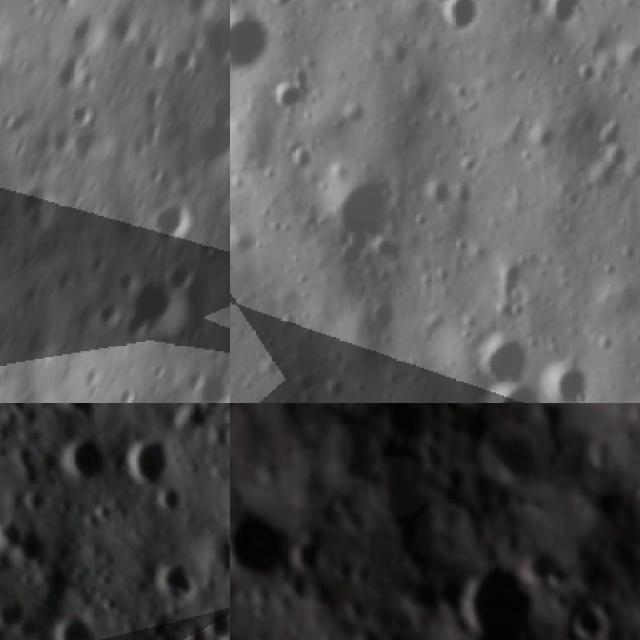crater: (449, 555, 538, 640), (328, 158, 402, 239), (319, 414, 387, 496), (142, 546, 210, 620), (230, 497, 287, 584), (125, 272, 189, 349), (50, 426, 118, 493), (116, 433, 181, 499), (468, 330, 533, 384), (230, 9, 276, 80), (148, 190, 202, 250), (37, 602, 114, 640), (165, 403, 226, 450), (290, 523, 336, 584), (488, 433, 537, 486), (565, 593, 614, 640), (547, 359, 598, 403), (154, 478, 200, 524), (45, 403, 116, 432), (522, 535, 562, 586), (274, 65, 311, 117), (190, 360, 230, 403), (436, 0, 485, 35), (200, 5, 230, 61), (540, 0, 587, 32), (476, 384, 553, 403), (170, 39, 204, 73), (64, 98, 98, 132), (168, 258, 200, 292)
